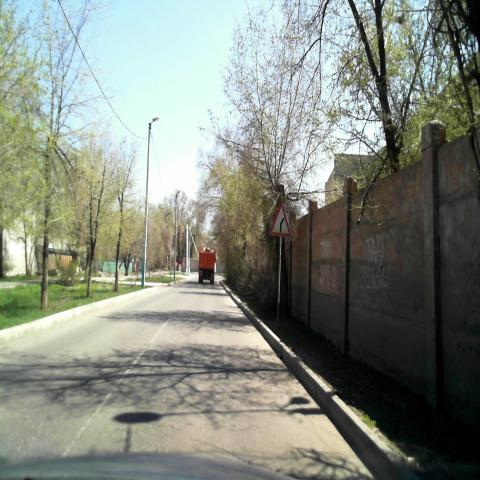1_11: (269, 202, 292, 239)
